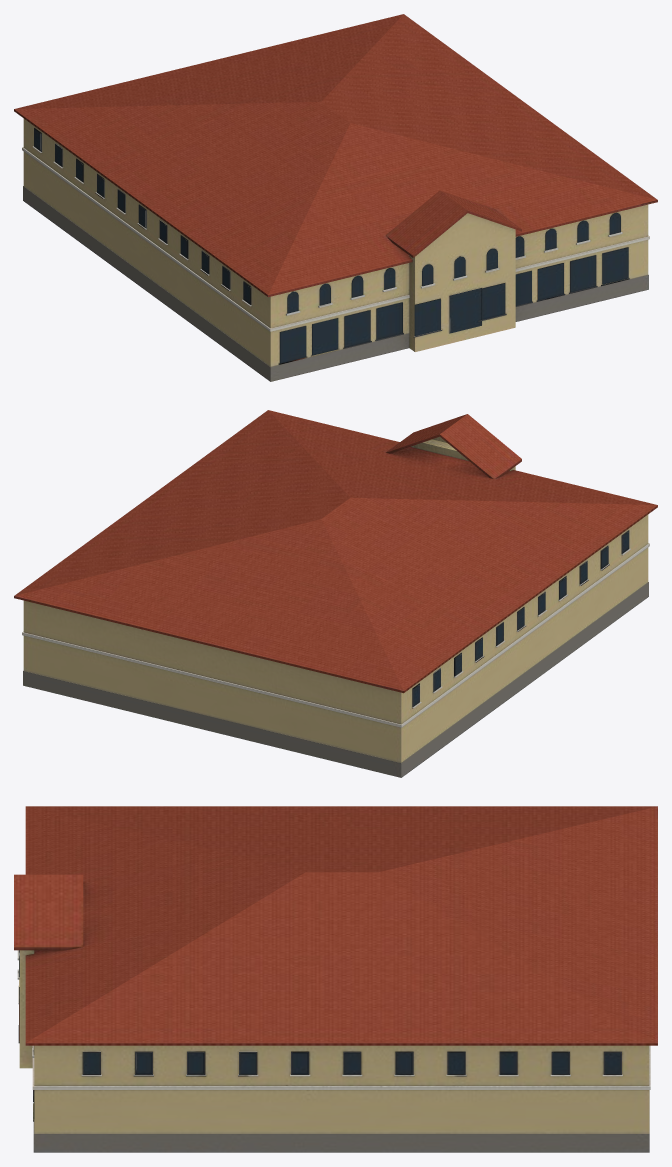
Rendered from biedronka.glb.
3 renders of one model, top to bottom at view 1: azimuth 30°, elevation 25°; view 2: azimuth 150°, elevation 25°; view 3: azimuth 270°, elevation 25°, orthographic. The views are drawn at different scales.
Visible parts, largest first — view 1: biedronka; view 2: biedronka; view 3: biedronka.
Part boxes in pixels (x1,y1,x2,y2): biedronka: (14, 14, 657, 381); biedronka: (14, 410, 657, 777); biedronka: (14, 806, 657, 1152).
Bounding box in the file's own units: 38.7 × 12.6 × 44.5.
Materials: 1 (1 with a texture image).
